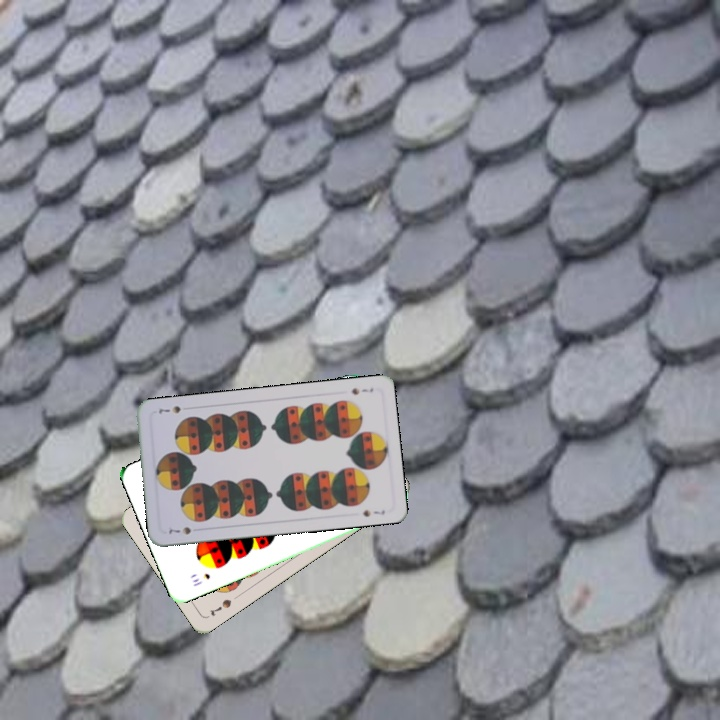S10: (188, 569, 213, 589)
S7: (206, 595, 234, 618), (164, 523, 194, 537), (347, 384, 376, 397)
